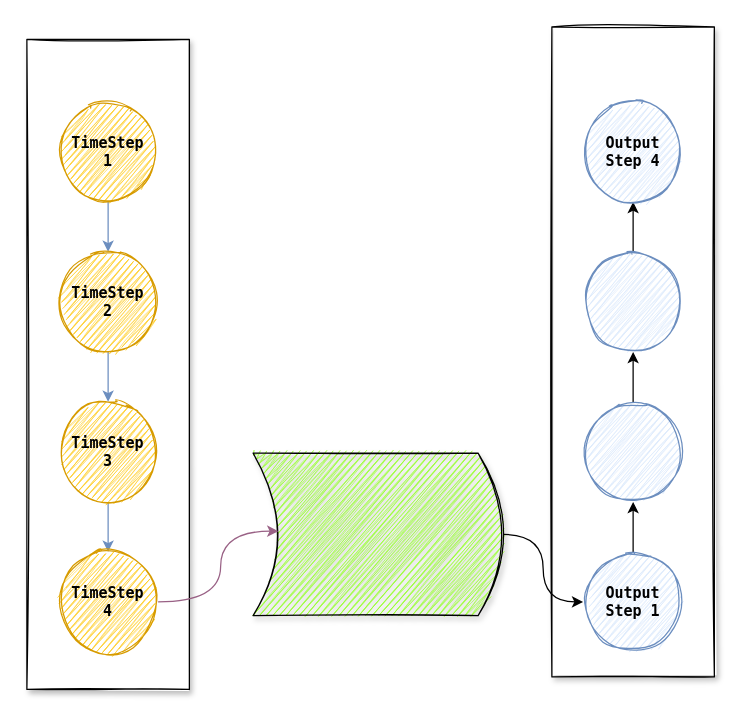
Some shapes in this 744 by 720 pixel diagram are drawn without their labels. Here are the shapes that lost their labels. From the top down, the centre of each, then its label:
At [632,301]: "Output Step 3".
At [632,451]: "Output Step 2".
At [379,535]: "Attention Network".
